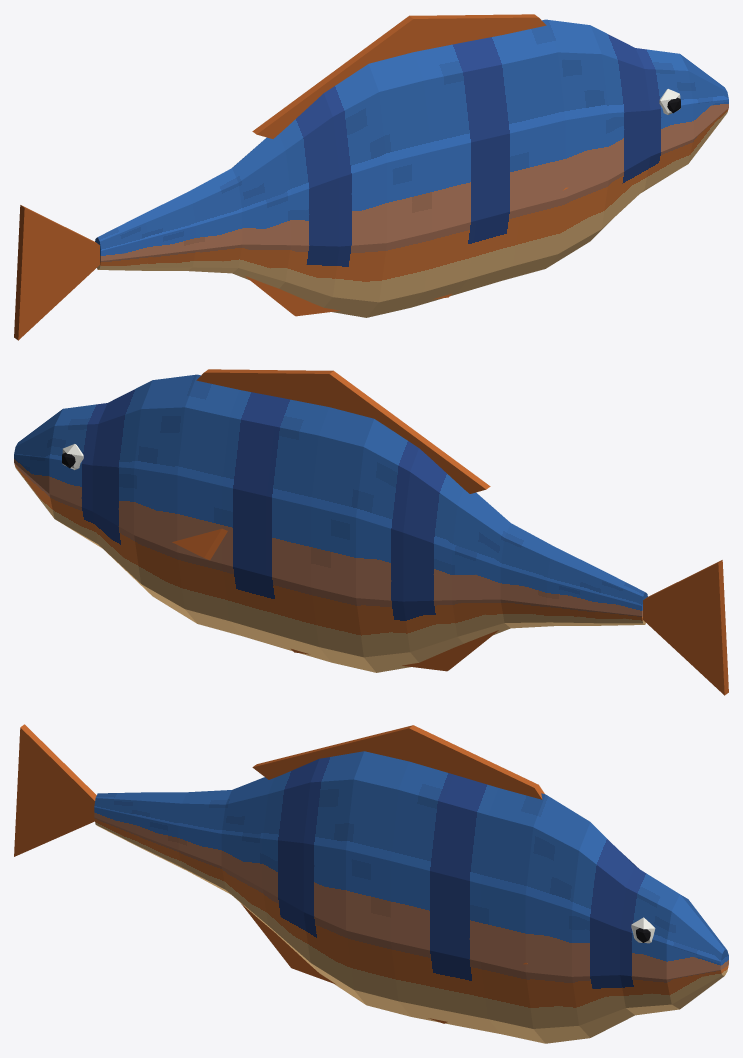
File: harlequin_tuskfish.glb
3 views of the same model, one above another, from view 1: azimuth 30°, elevation 25°; view 2: azimuth 150°, elevation 25°; view 3: azimuth 330°, elevation 25° (orthographic).
Visible parts, largest first — view 1: fish_harlequin_tuskfish; view 2: fish_harlequin_tuskfish; view 3: fish_harlequin_tuskfish.
Part boxes in pixels (<box>): fish_harlequin_tuskfish: <box>14,14,728,340</box>; fish_harlequin_tuskfish: <box>14,369,728,695</box>; fish_harlequin_tuskfish: <box>14,724,728,1043</box>.
Bounding box in the file's own units: 1.13 × 0.4423 × 0.1417.
Materials: 4 (1 with a texture image).
